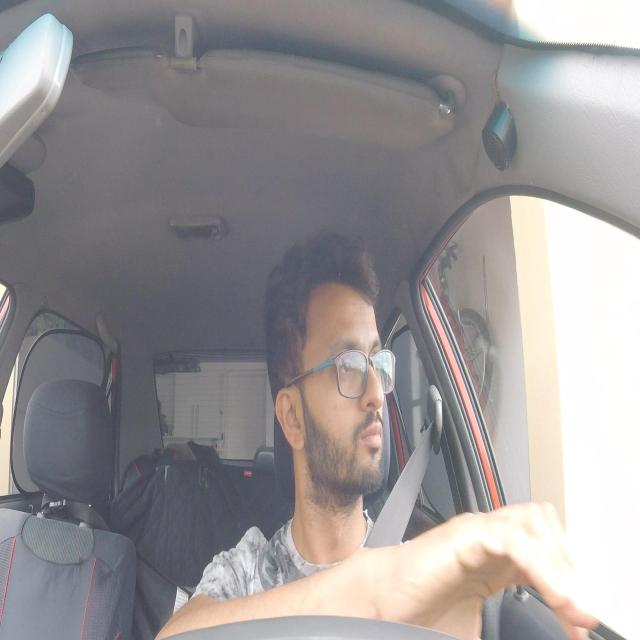open: (330, 332, 365, 399), (370, 331, 388, 395)
